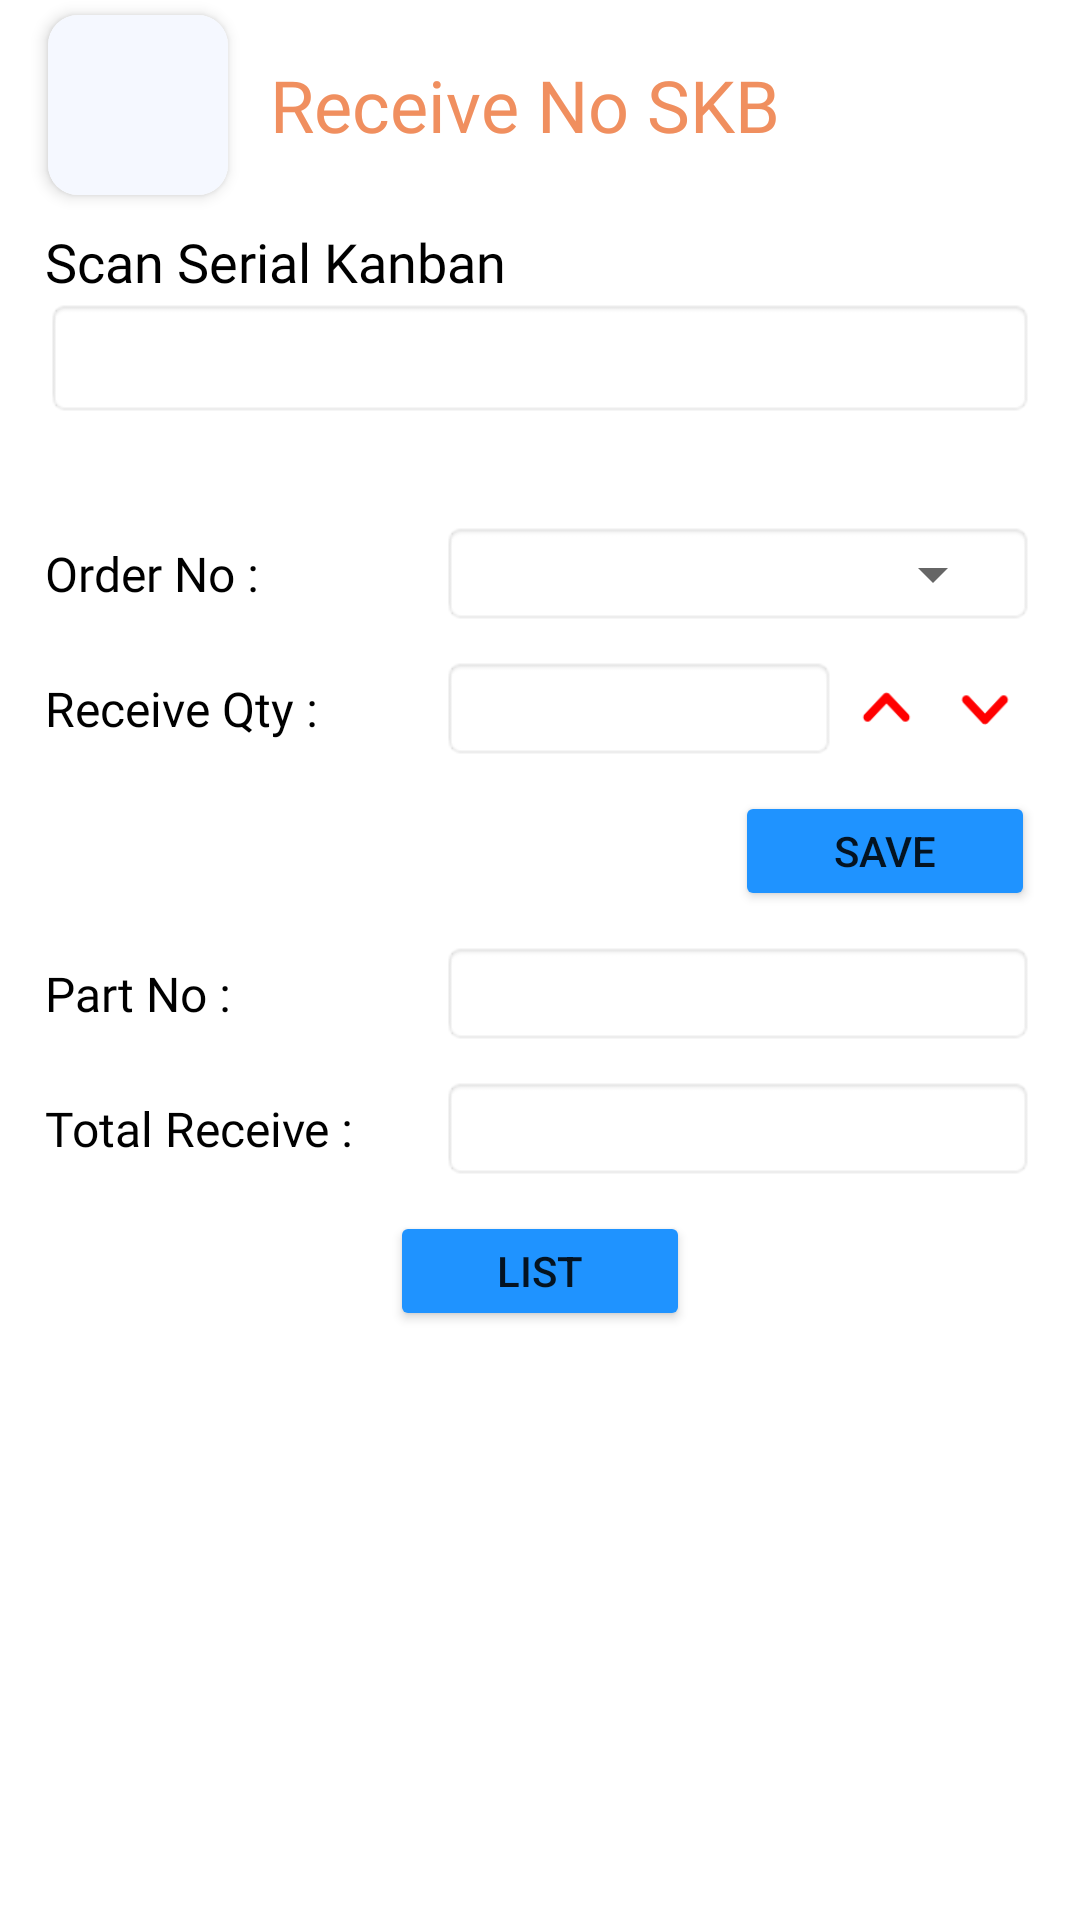

Icons on this 1080 x 1920 Android screen, each with the point to tap as (x=x, y=y):
arrow down: (x=985, y=710)
arrow up: (x=886, y=707)
